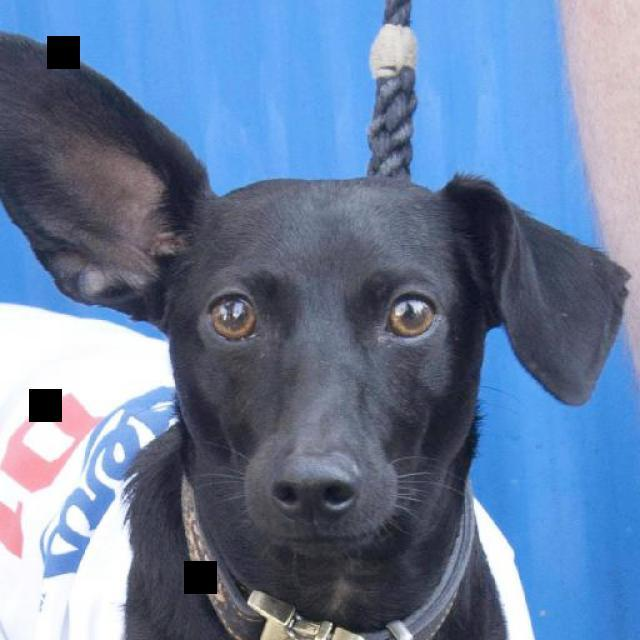adult_dog: (0, 24, 634, 638)
